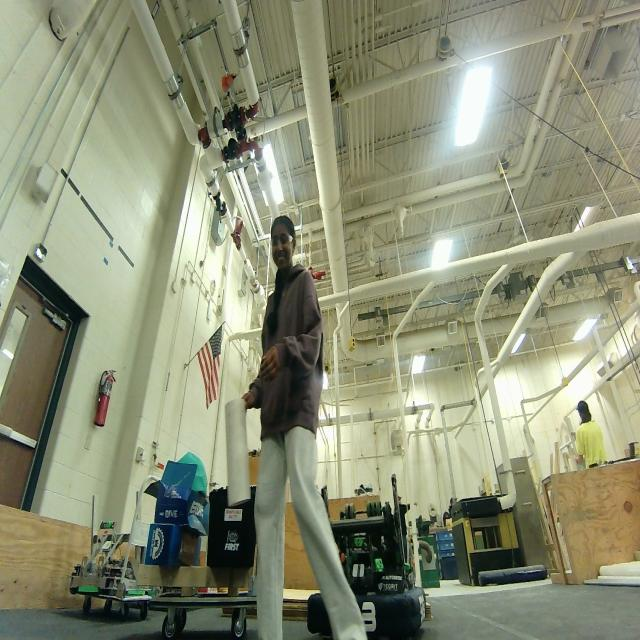coral: (226, 399, 250, 507)
